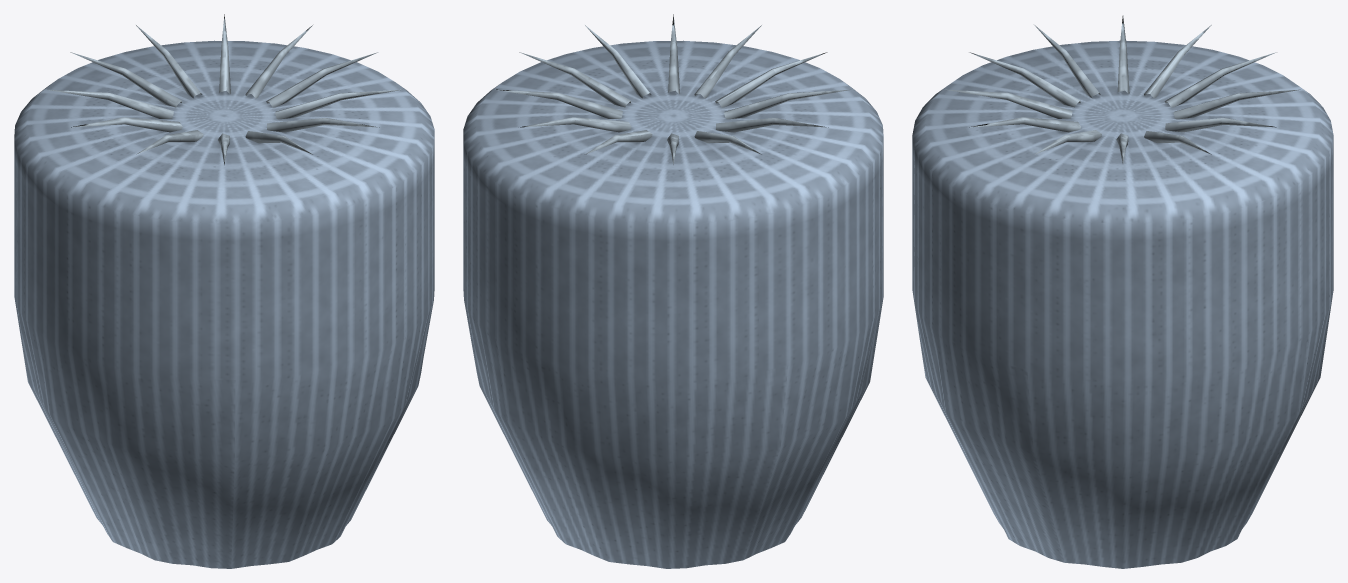
File: shell_b1_spined_drum.glb
3 renders of one model, left to right at view 1: azimuth 30°, elevation 25°; view 2: azimuth 150°, elevation 25°; view 3: azimuth 270°, elevation 25°, orthographic.
Visible parts, largest first — view 1: ShellB1SpinedDrum; view 2: ShellB1SpinedDrum; view 3: ShellB1SpinedDrum.
Part boxes in pixels (x1,y1,x2,y2): ShellB1SpinedDrum: [14, 14, 434, 568]; ShellB1SpinedDrum: [463, 14, 883, 568]; ShellB1SpinedDrum: [912, 15, 1333, 568].
Bounding box in the file's own units: 2.2 × 2.6 × 2.2.
2 materials, 2 textured.
